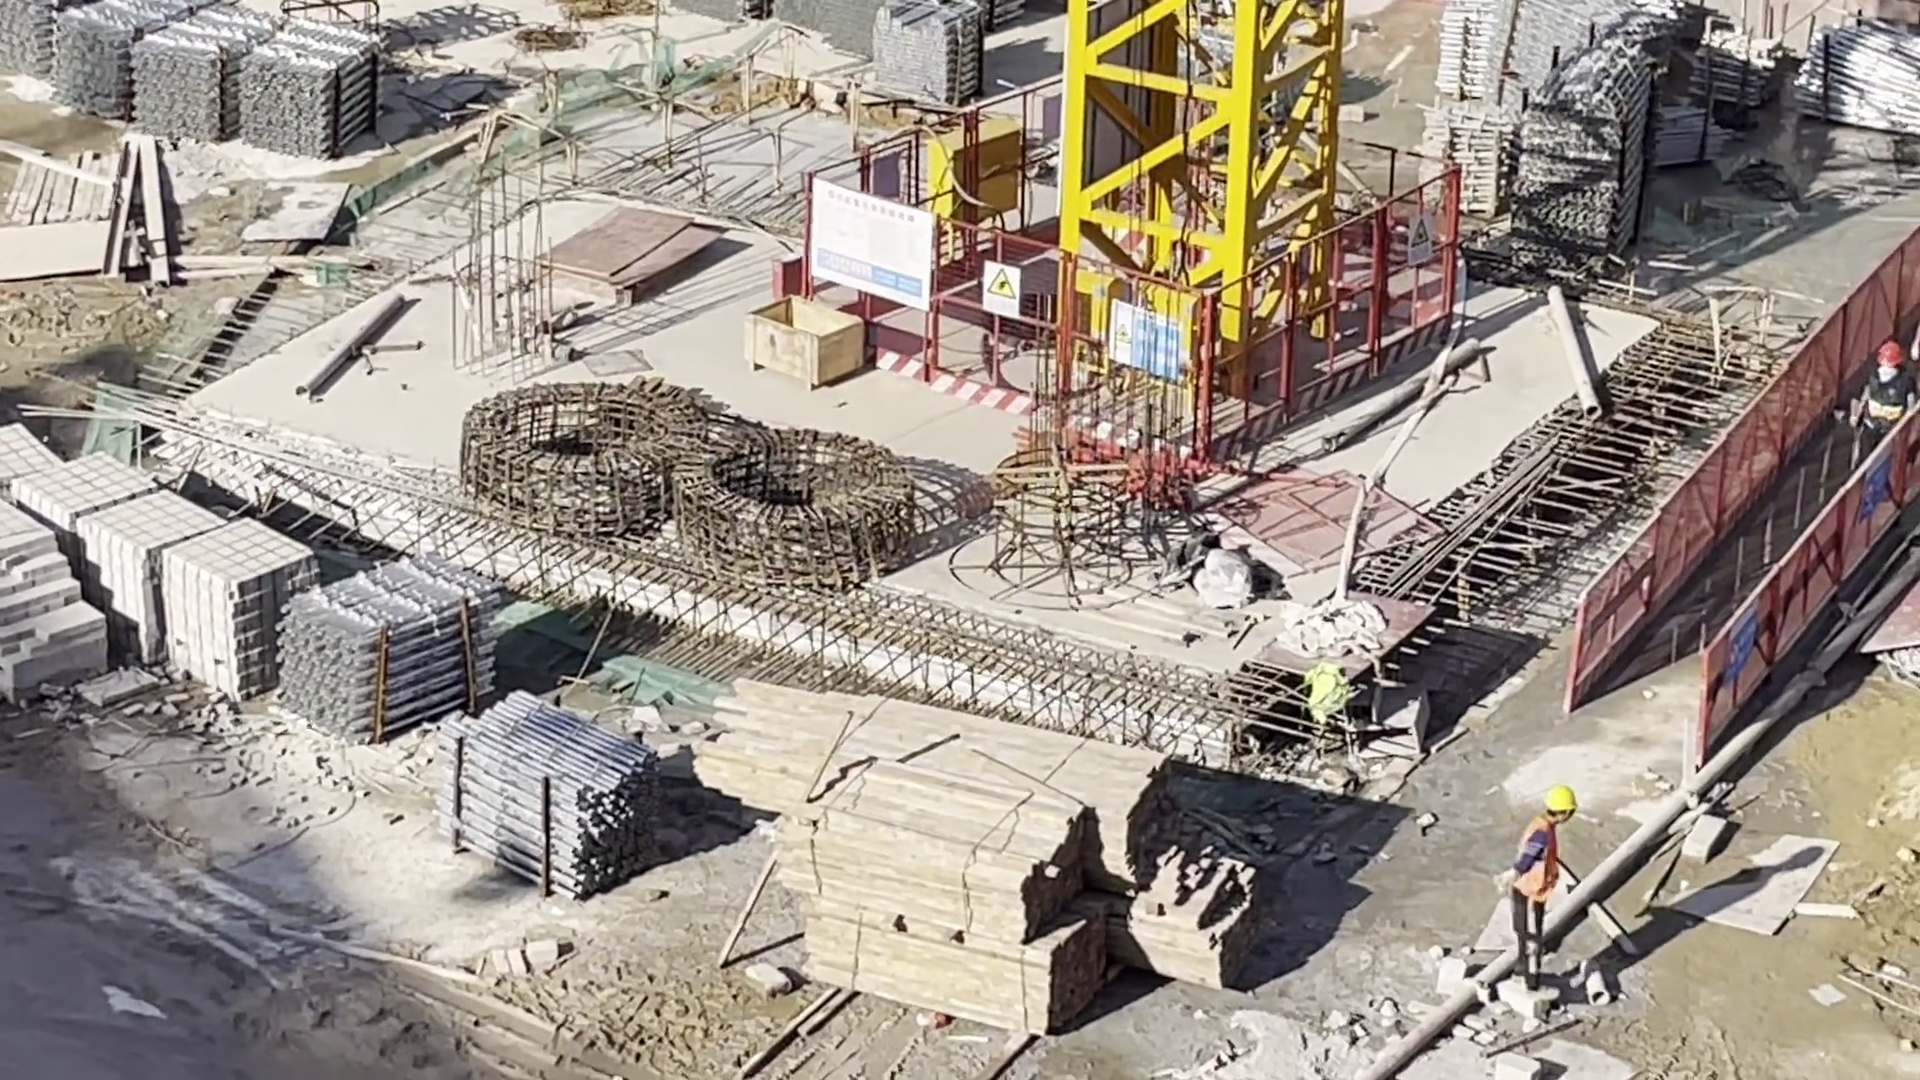board: (529, 207, 694, 297)
brick: (1, 456, 289, 697)
ebox: (936, 127, 1023, 226)
fence: (1578, 234, 1920, 708)
helmet: (1874, 343, 1905, 369), (1546, 787, 1575, 815)
person: (1516, 785, 1582, 999), (1861, 346, 1912, 514)
scaffold: (1436, 3, 1642, 254), (55, 1, 381, 157), (436, 696, 658, 900), (285, 557, 493, 742), (1798, 26, 1920, 127), (877, 1, 978, 106), (1693, 23, 1785, 112)
slogan: (1106, 311, 1181, 380), (1729, 604, 1759, 684), (1865, 443, 1893, 512), (983, 264, 1017, 310), (1409, 219, 1431, 261)
vest: (1519, 822, 1562, 897)
wood: (697, 687, 1162, 883), (788, 770, 1109, 1033)
